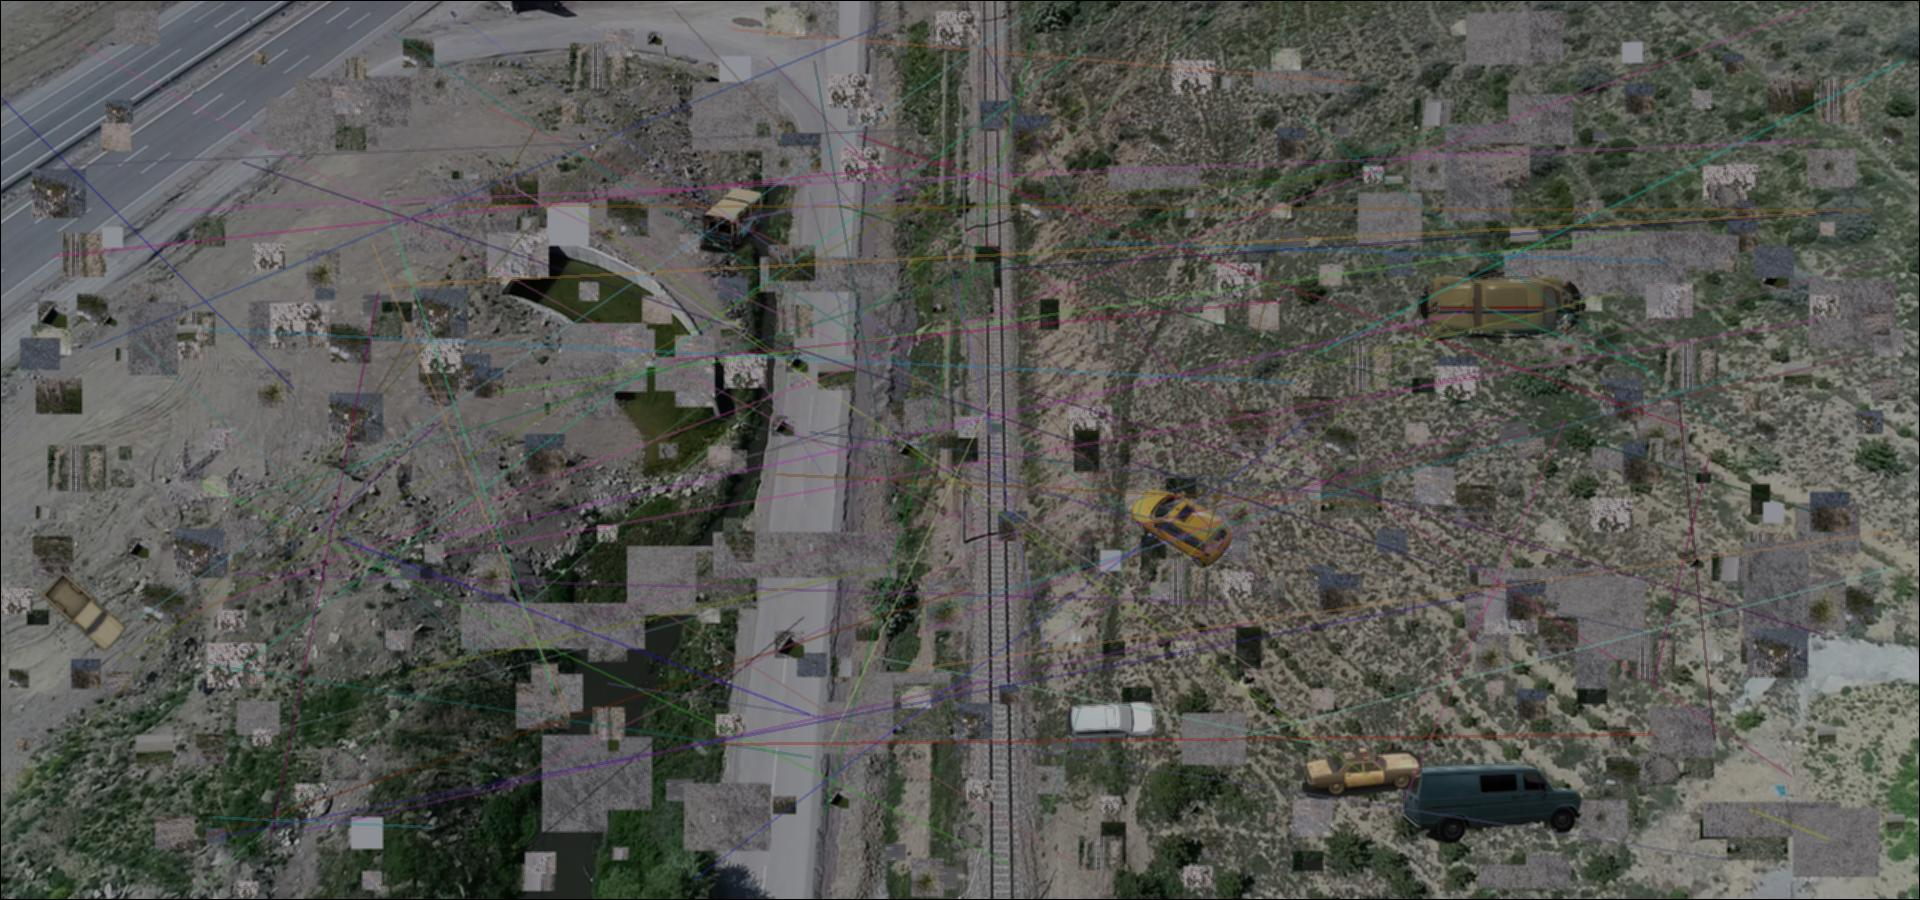arac: (1400, 762, 1583, 844), (1416, 269, 1589, 344), (1128, 484, 1233, 568), (40, 568, 126, 654), (1299, 744, 1422, 800), (700, 187, 765, 253), (1064, 696, 1157, 740)
